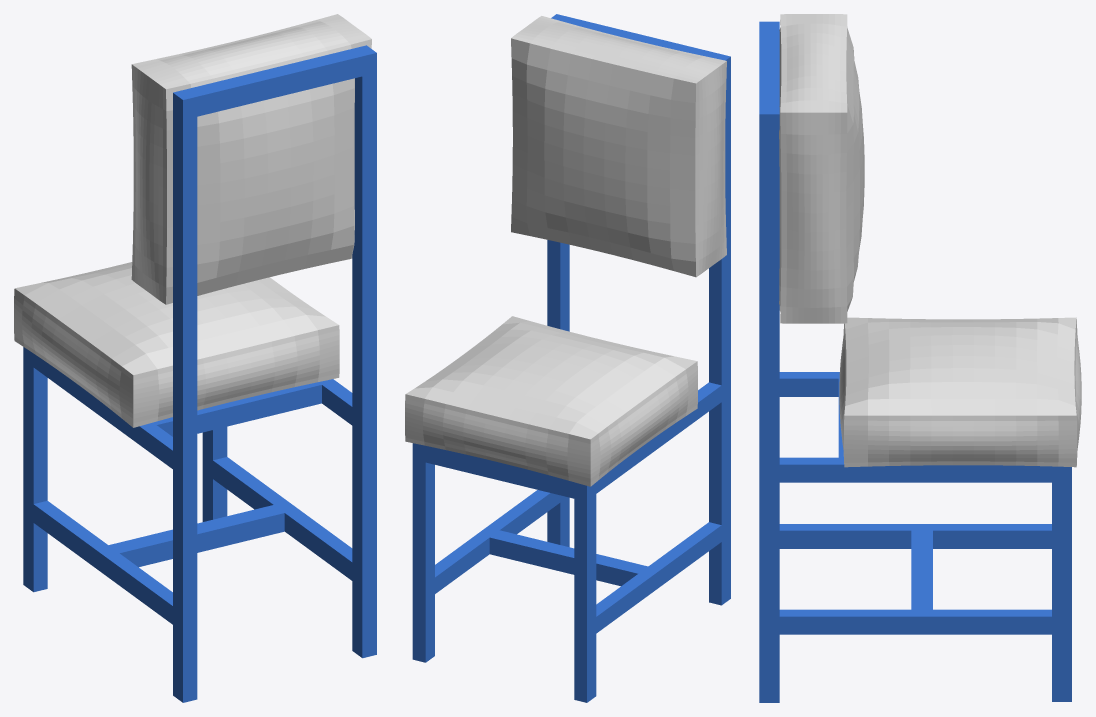
Rendered from tchairblend0024.gltf.
3 views of the same model, side by side, from view 1: azimuth 30°, elevation 25°; view 2: azimuth 150°, elevation 25°; view 3: azimuth 270°, elevation 25° (orthographic). The views are drawn at different scales.
Parts seen in each view (by area): view 1: Cube.001, Cube.002, Cube, Cube.005, Cube.003, Cube.004; view 2: Cube.001, Cube, Cube.003, Cube.002, Cube.005, Cube.004; view 3: Cube, Cube.001, Cube.005, Cube.002, Cube.004, Cube.003.
Part boxes in pixels (x1,y1,x2,y2): Cube.001: (131, 14, 371, 304); Cube.002: (173, 45, 376, 702); Cube: (14, 262, 339, 427); Cube.005: (33, 457, 352, 624); Cube.003: (23, 347, 227, 592); Cube.004: (33, 354, 352, 468); Cube.001: (511, 16, 726, 277); Cube: (405, 316, 697, 486); Cube.003: (412, 443, 596, 702); Cube.002: (547, 14, 730, 605); Cube.005: (435, 490, 721, 633); Cube.004: (596, 382, 721, 493); Cube: (839, 317, 1081, 467); Cube.001: (779, 14, 864, 323); Cube.005: (779, 524, 1052, 634); Cube.002: (759, 21, 779, 702); Cube.004: (779, 372, 1052, 482); Cube.003: (1052, 466, 1071, 701).
Size of the model in its own units: 2.09 by 5.67 by 2.76.
